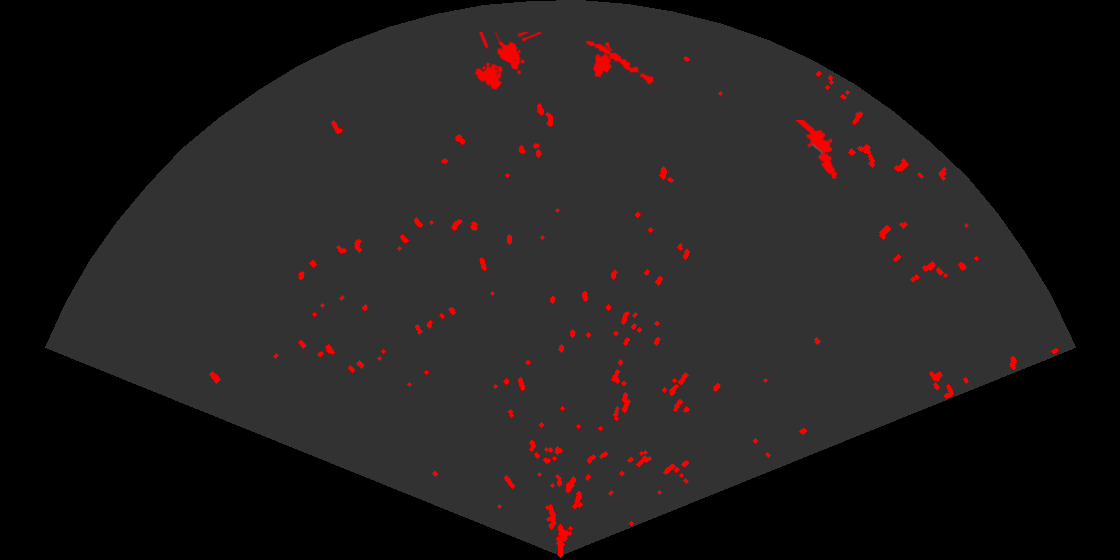AUV: (591, 40, 615, 79)
cage: (473, 32, 541, 91)
chain: (584, 39, 663, 91)
frogman: (794, 120, 839, 181)
